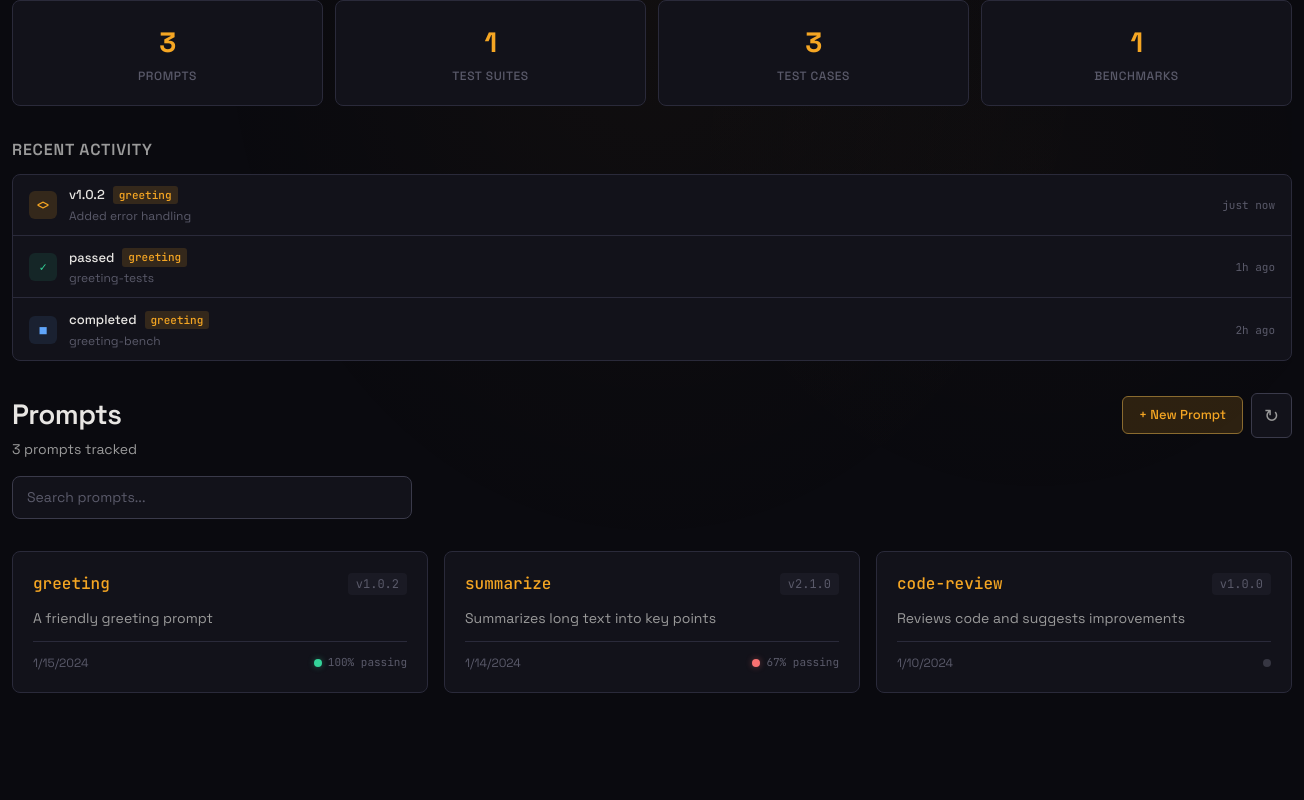
Test: HomePage › filters prompts by search query
Type "summarize" into the field with placeholder "Search prompts..." at (212, 497), box [12, 476, 412, 518]
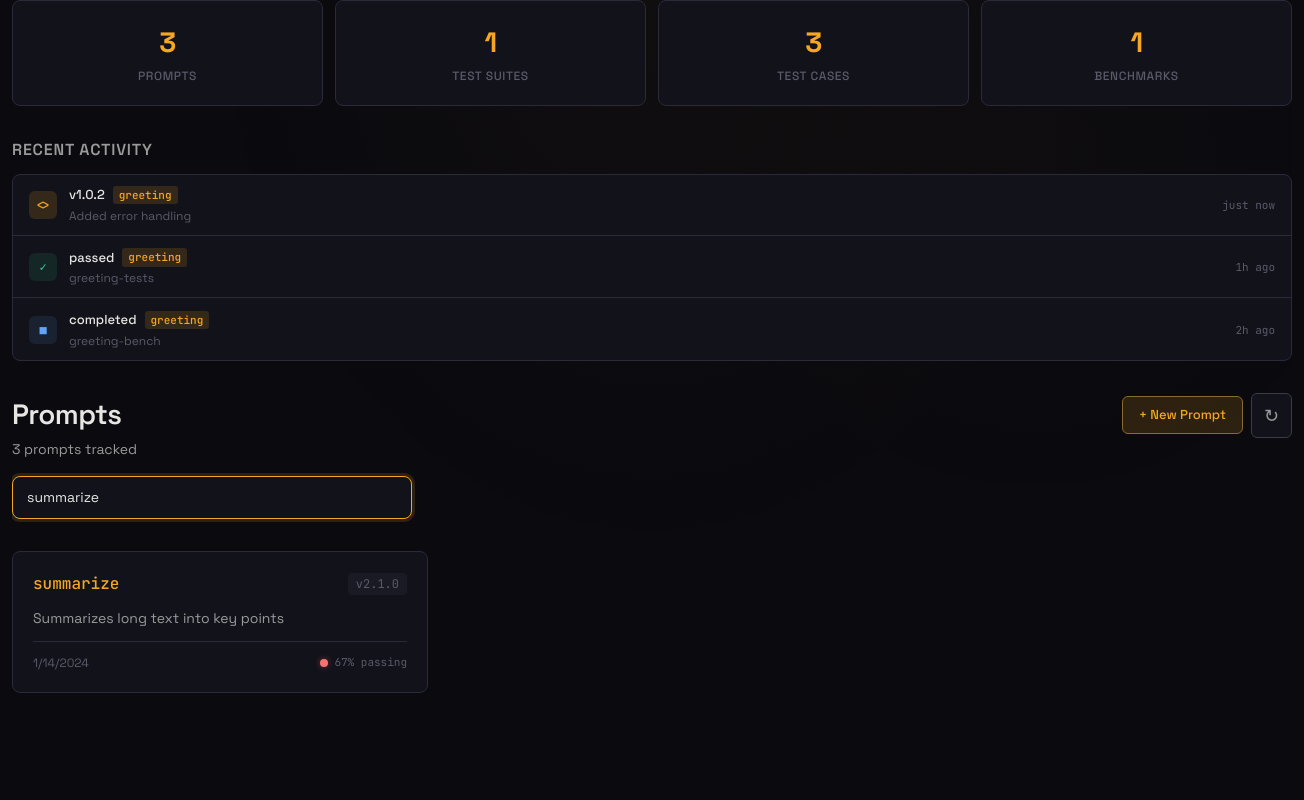
Result: the link "code-review" is gone
